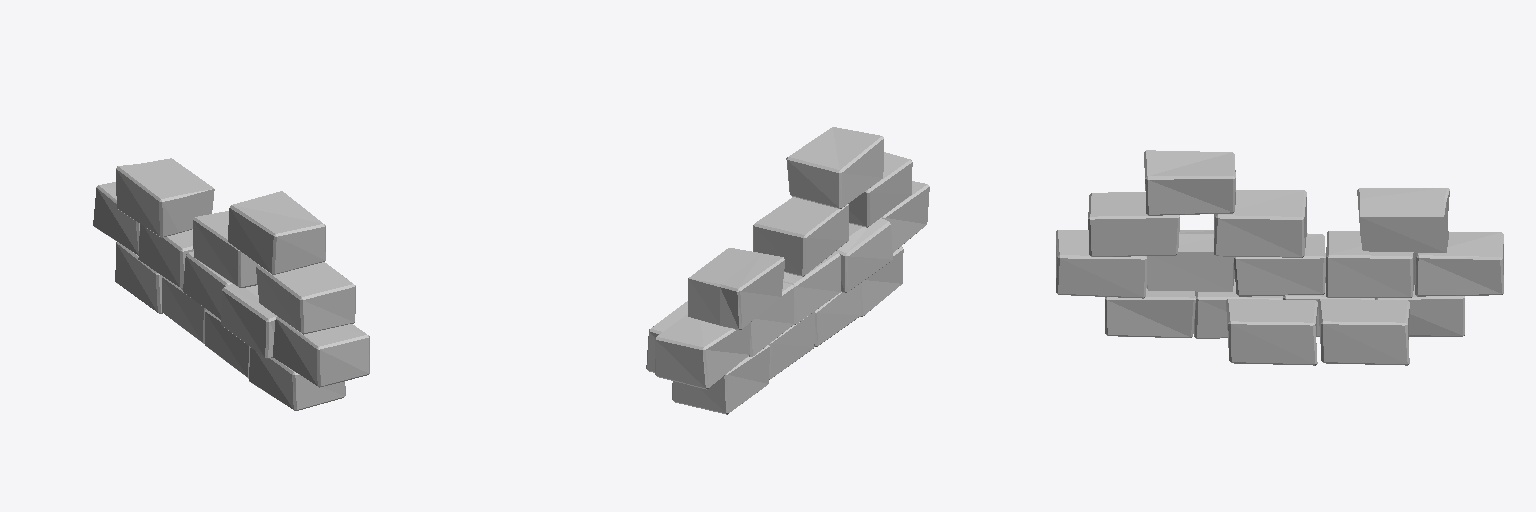
Rendered from Bricks.obj.
The picture shows the model from 3 angles: view 1: azimuth 30°, elevation 25°; view 2: azimuth 150°, elevation 25°; view 3: azimuth 270°, elevation 25°; orthographic projection.
Visible parts, largest first — view 1: Bricks; view 2: Bricks; view 3: Bricks.
Part boxes in pixels (left/top/right/bottom): Bricks: left=93, top=158, right=369, bottom=410; Bricks: left=646, top=127, right=929, bottom=414; Bricks: left=1056, top=150, right=1503, bottom=365.
Bounding box in the file's own units: 1.98 × 2.7 × 6.66.